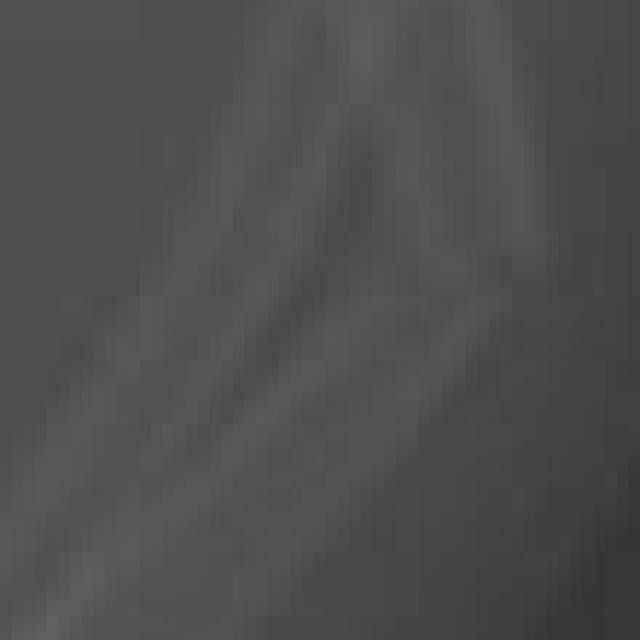fracture: (7, 2, 640, 640)
